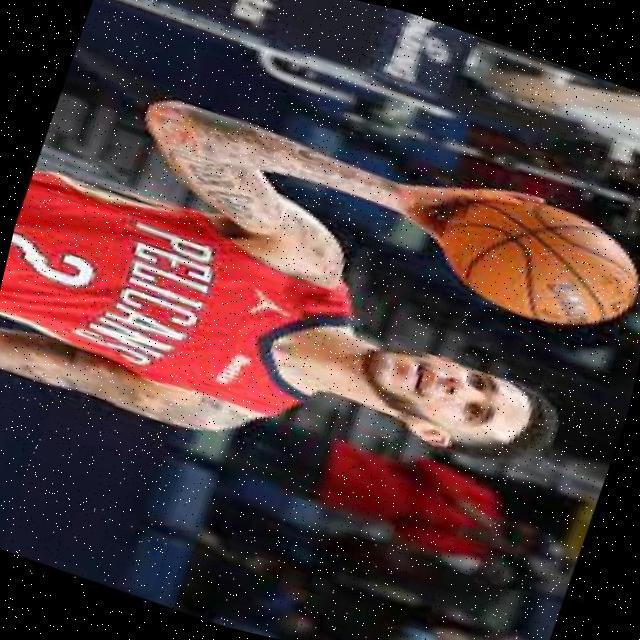ball: (422, 172, 640, 350)
